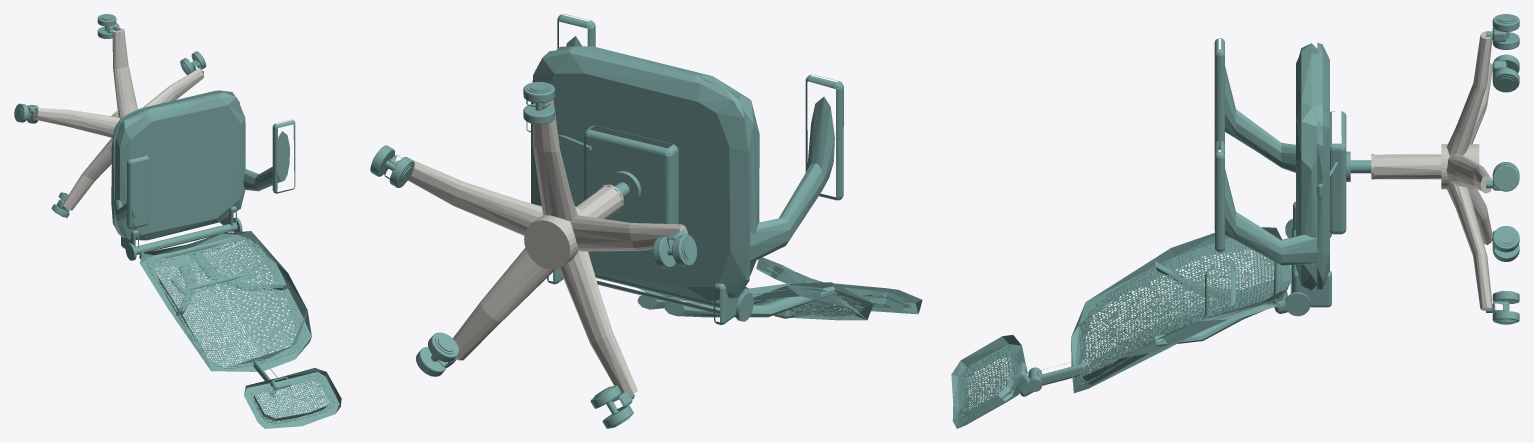
File: ch03_articraft.glb
3 renders of one model, left to right at view 1: azimuth 30°, elevation 25°; view 2: azimuth 150°, elevation 25°; view 3: azimuth 270°, elevation 25°, orthographic. The views are drawn at different scales.
Visible parts, largest first — view 1: world; view 2: world; view 3: world.
Part boxes in pixels (x1=…): world: x1=14, y1=14, x2=341, y2=428; world: x1=370, y1=14, x2=922, y2=428; world: x1=951, y1=14, x2=1519, y2=428.
Bounding box in the file's own units: 0.7174 × 0.9965 × 1.31.
